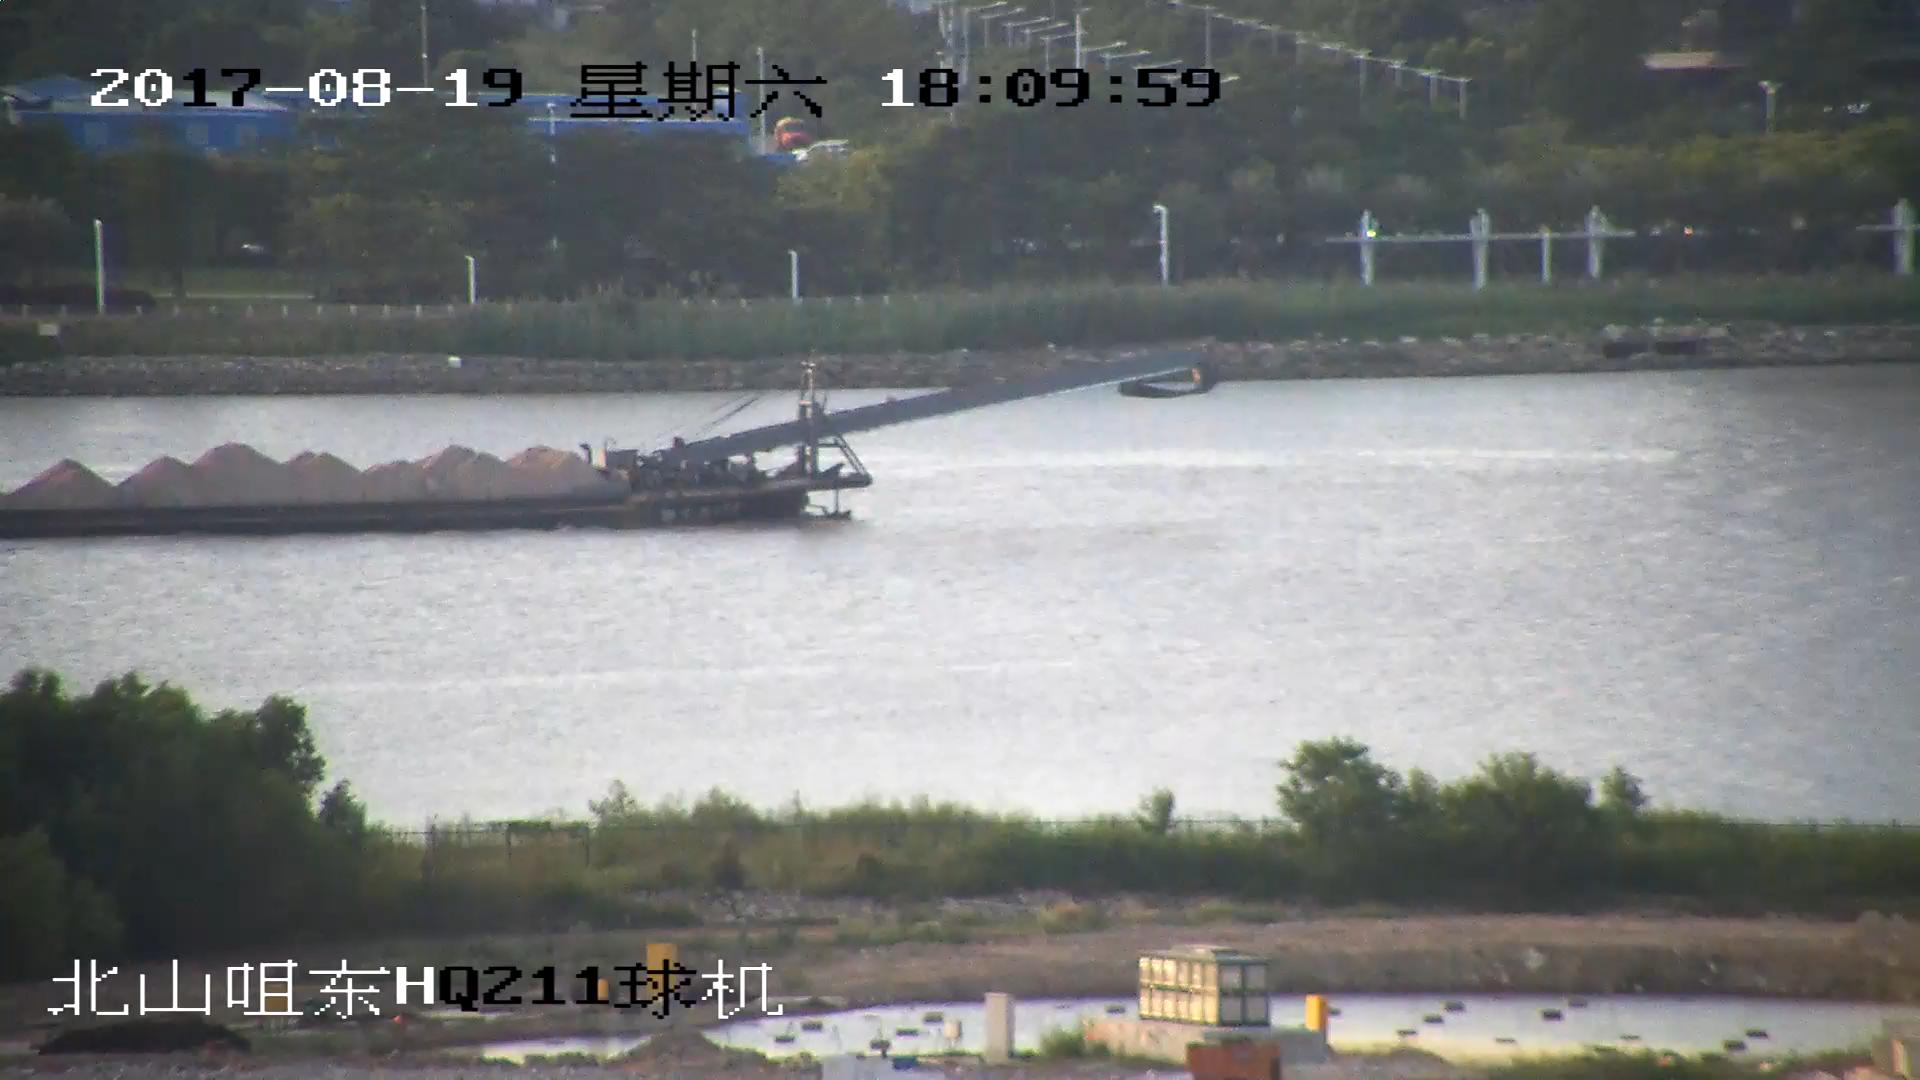ore carrier: (1, 347, 1209, 544)
